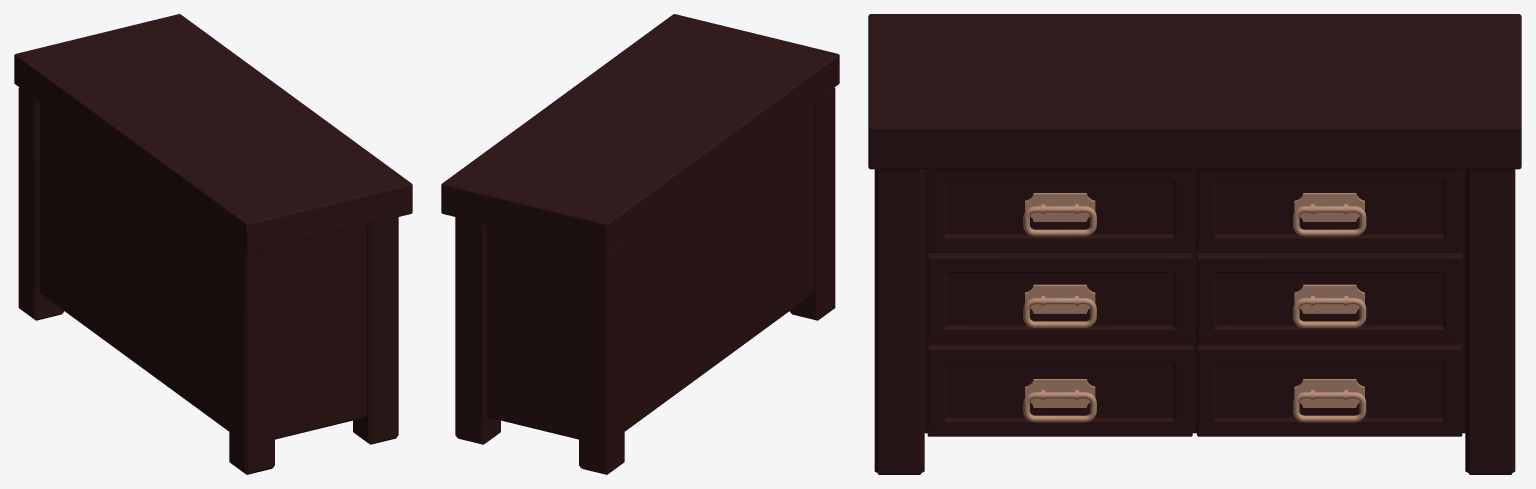
Rendered from wood_drawer_1.glb.
3 renders of one model, left to right at view 1: azimuth 30°, elevation 25°; view 2: azimuth 150°, elevation 25°; view 3: azimuth 270°, elevation 25°, orthographic. The views are drawn at different scales.
Parts seen in each view (by area): view 1: Table, Plane.005, Plane.004; view 2: Table, Plane.005, Plane.004; view 3: Plane.024, Plane.005, Plane.004, Table, Plane.029, Plane.031, Plane.035, Plane.027, Plane.025, Plane.033, Plane.028, Plane.036 (+4 smaller).
Part boxes in pixels (x1,y1,x2,y2): Table: (39, 102, 367, 439); Plane.005: (14, 14, 412, 253); Plane.004: (18, 87, 398, 474); Table: (486, 102, 814, 439); Plane.005: (441, 14, 839, 253); Plane.004: (455, 87, 835, 474); Plane.024: (927, 169, 1462, 436); Plane.005: (868, 14, 1521, 169); Plane.004: (874, 169, 1515, 474); Table: (924, 169, 1465, 433); Plane.029: (1025, 284, 1095, 313); Plane.031: (1294, 284, 1364, 313); Plane.035: (1294, 379, 1364, 407); Plane.027: (1294, 193, 1364, 221); Plane.025: (1025, 193, 1095, 221); Plane.033: (1025, 379, 1095, 407); Plane.028: (1293, 206, 1366, 236); Plane.036: (1293, 392, 1366, 422).
Bounding box in the file's own units: 1.63 × 2.38 × 3.94.
